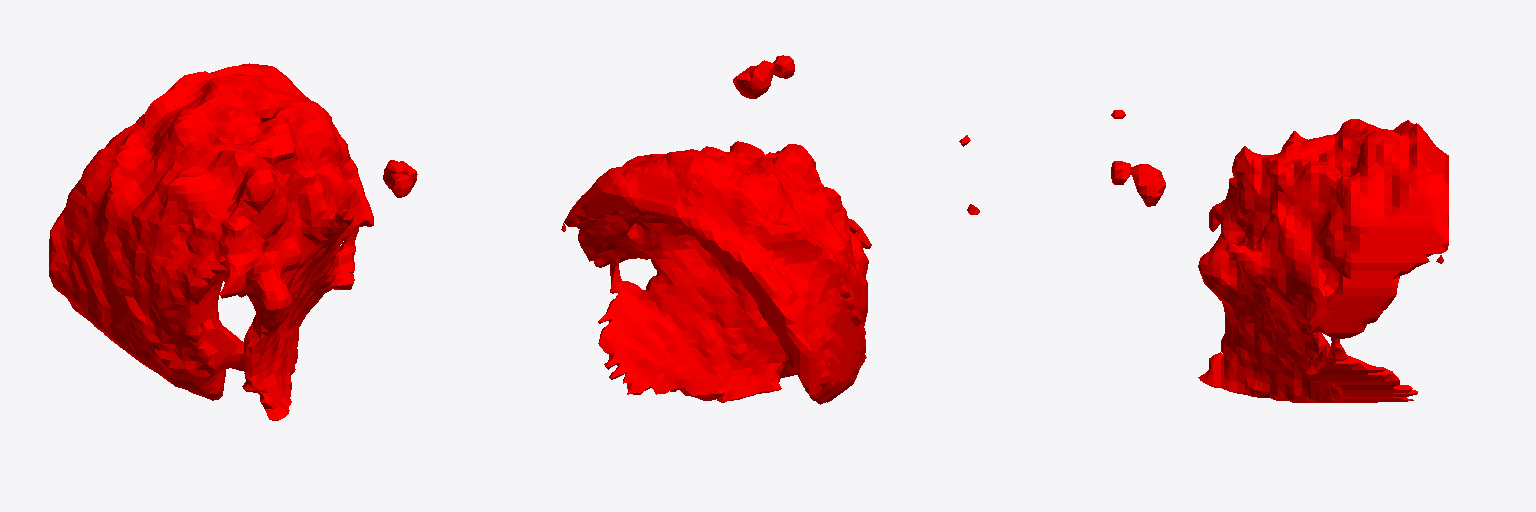
The model's file is B939XXXX-1_valve_16.obj.
3 views of the same model, side by side, from view 1: azimuth 30°, elevation 25°; view 2: azimuth 150°, elevation 25°; view 3: azimuth 270°, elevation 25° (orthographic).
Visible parts, largest first — view 1: 16_valve; view 2: 16_valve; view 3: 16_valve.
Boxes of the visible parts, x1=… form: 16_valve: x1=49, y1=63, x2=417, y2=420; 16_valve: x1=561, y1=55, x2=979, y2=404; 16_valve: x1=1111, y1=110, x2=1448, y2=402.
Bounding box in the file's own units: 75.98 × 72.31 × 82.97.